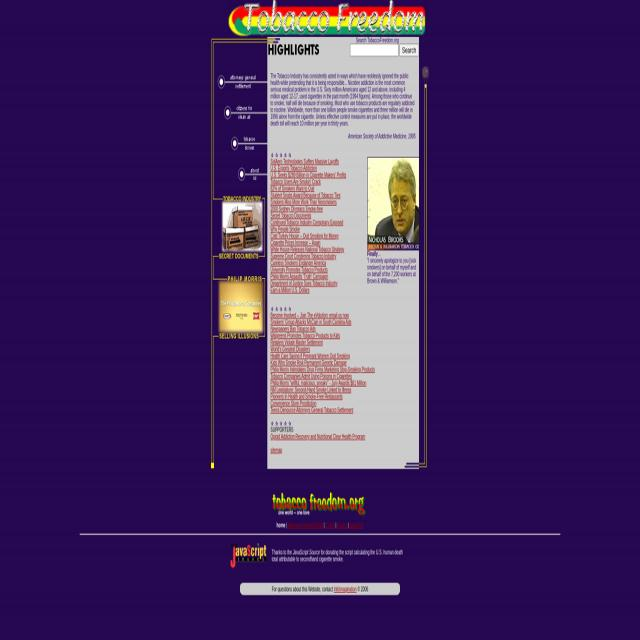button: (228, 0, 428, 37), (367, 157, 419, 250), (253, 491, 387, 522), (211, 190, 267, 264), (211, 270, 267, 344), (230, 542, 270, 568), (217, 72, 267, 91), (217, 103, 267, 122), (217, 134, 267, 153), (217, 165, 267, 183), (268, 44, 320, 58), (211, 460, 267, 469), (270, 420, 320, 427), (211, 37, 267, 43), (268, 37, 320, 43), (385, 460, 419, 469), (270, 152, 320, 158), (270, 306, 320, 312), (419, 66, 429, 88), (419, 460, 429, 469), (237, 582, 243, 594), (397, 582, 403, 594)
field: (350, 44, 398, 57), (399, 44, 419, 57)
